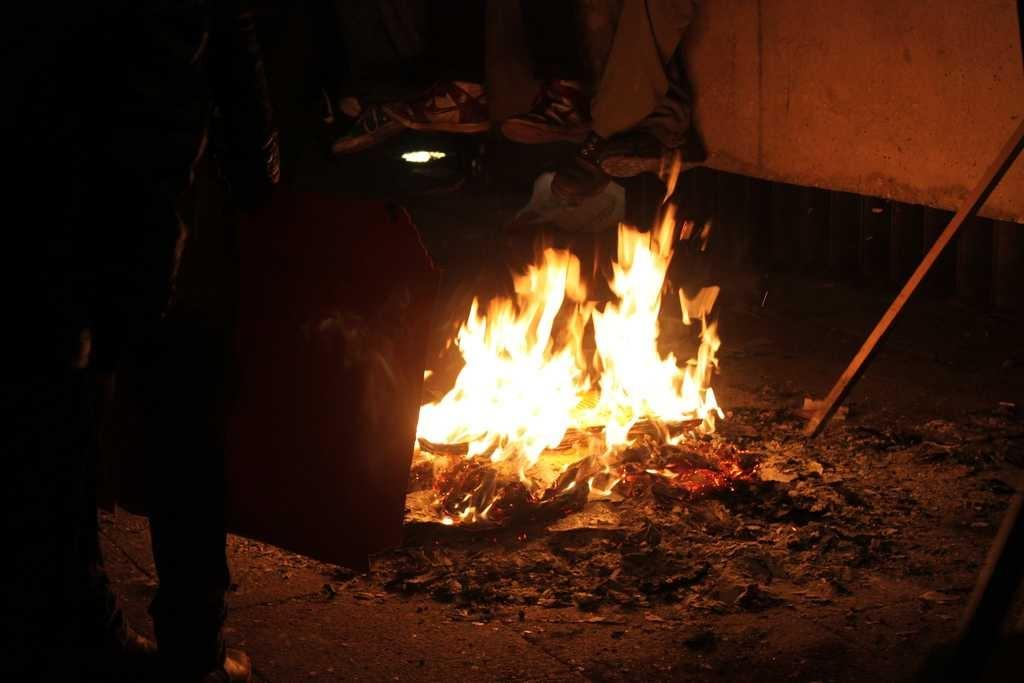fire: (457, 353, 567, 433), (600, 320, 667, 425)
